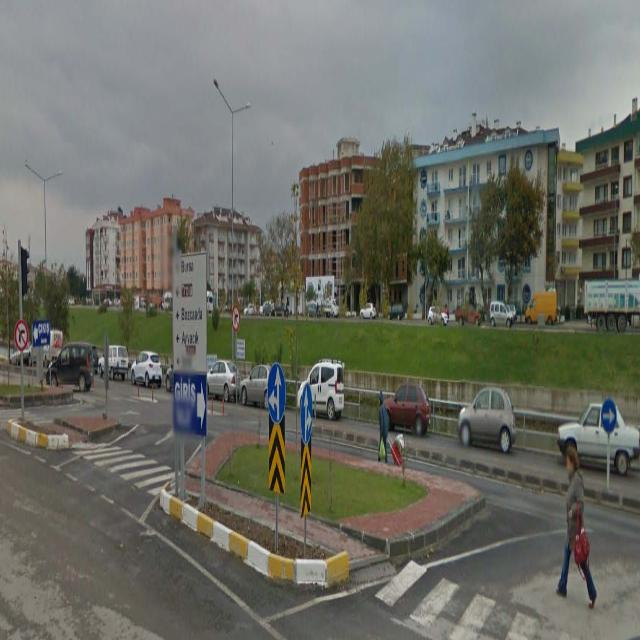ilerisag: (301, 380, 312, 445)
ilerisol: (267, 361, 287, 425)
sag: (602, 400, 616, 432)
sagadonulmez: (15, 320, 29, 350), (231, 304, 240, 332)
